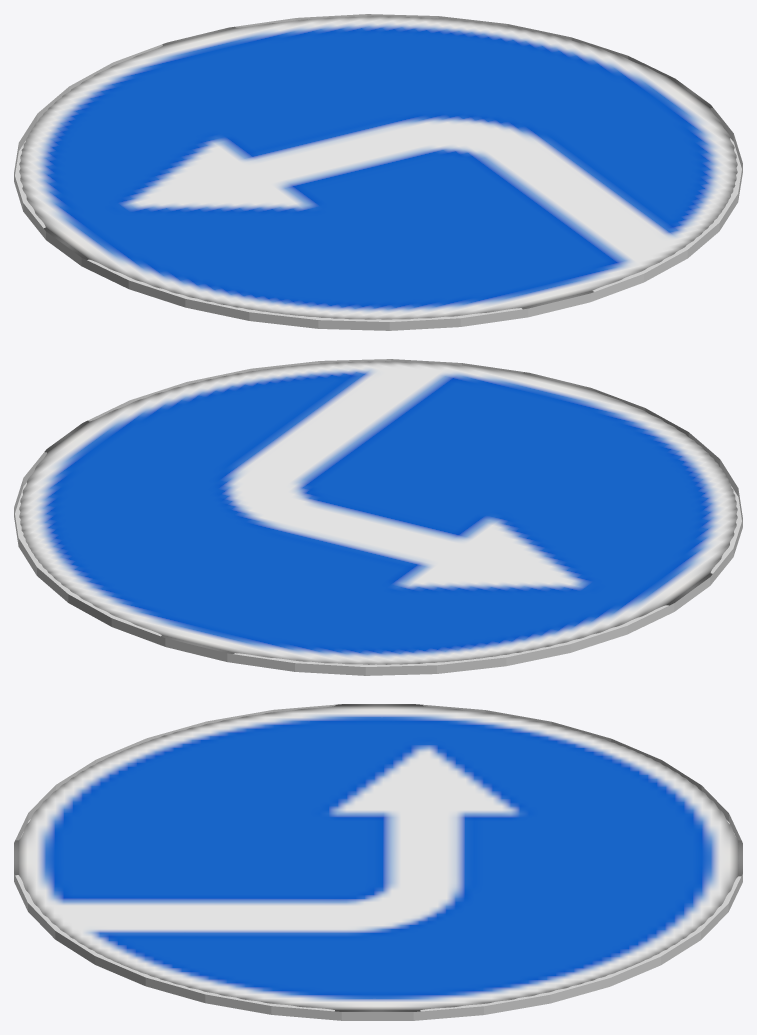
File: left.dae
3 renders of one model, top to bottom at view 1: azimuth 30°, elevation 25°; view 2: azimuth 150°, elevation 25°; view 3: azimuth 270°, elevation 25°, orthographic.
Parts seen in each view (by area): view 1: Cylinder; view 2: Cylinder; view 3: Cylinder.
Boxes of the visible parts, x1=… form: Cylinder: x1=14, y1=14, x2=742, y2=330; Cylinder: x1=14, y1=359, x2=742, y2=675; Cylinder: x1=14, y1=704, x2=742, y2=1020.
Size of the model in its own units: 0.1493 by 0.1493 by 0.002.
Materials: 2 (1 with a texture image).
